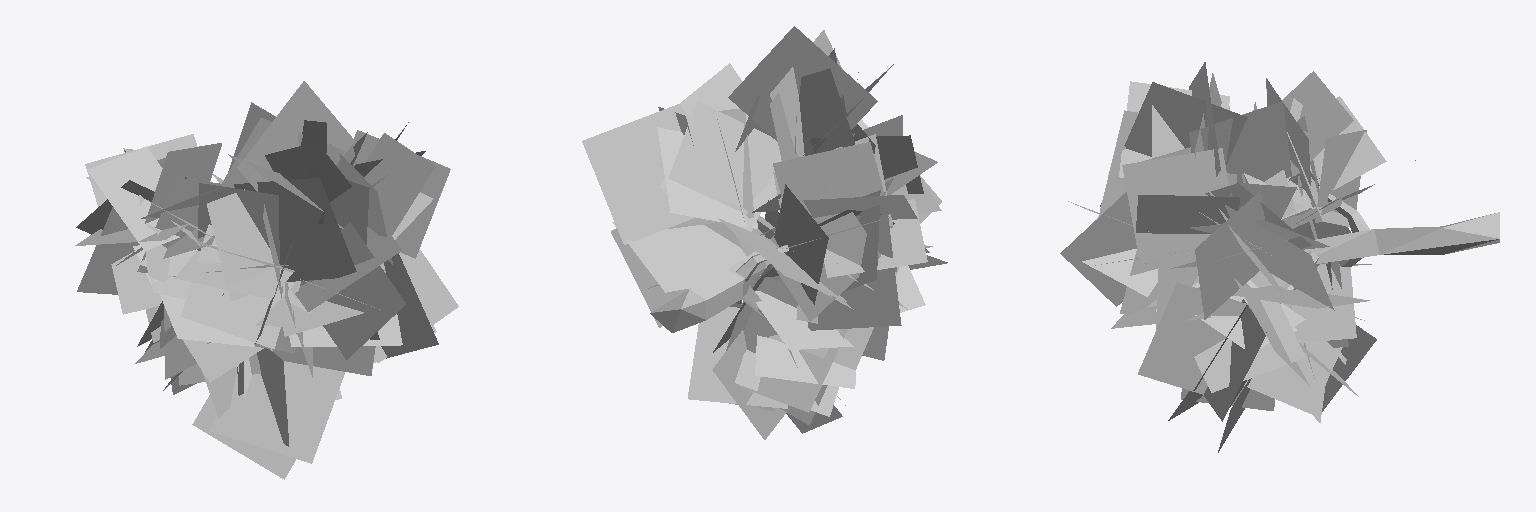
The model's file is green2_LOD1.obj.
3 renders of one model, left to right at view 1: azimuth 30°, elevation 25°; view 2: azimuth 150°, elevation 25°; view 3: azimuth 270°, elevation 25°, orthographic.
Parts seen in each view (by area): view 1: Model__blend_root; view 2: Model__blend_root; view 3: Model__blend_root.
Part boxes in pixels (left/top/right/bottom): Model__blend_root: left=75, top=81, right=458, bottom=479; Model__blend_root: left=582, top=26, right=947, bottom=439; Model__blend_root: left=1060, top=62, right=1499, bottom=452.
Bounding box in the file's own units: 8.12 × 9.1 × 9.06.